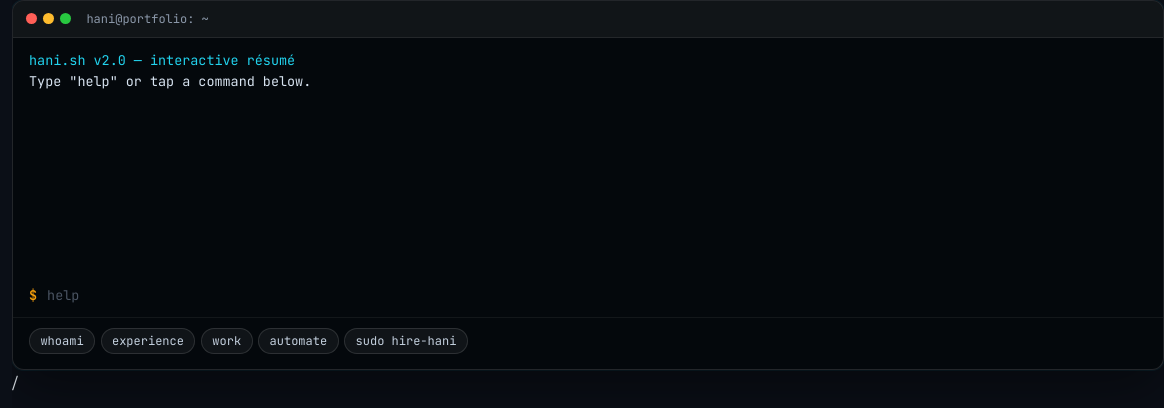
Test: running a command echoes it and prints output
Type "whoami" into the field named "terminal input" at [596, 295], box [45, 284, 1147, 306]
Then press Enter
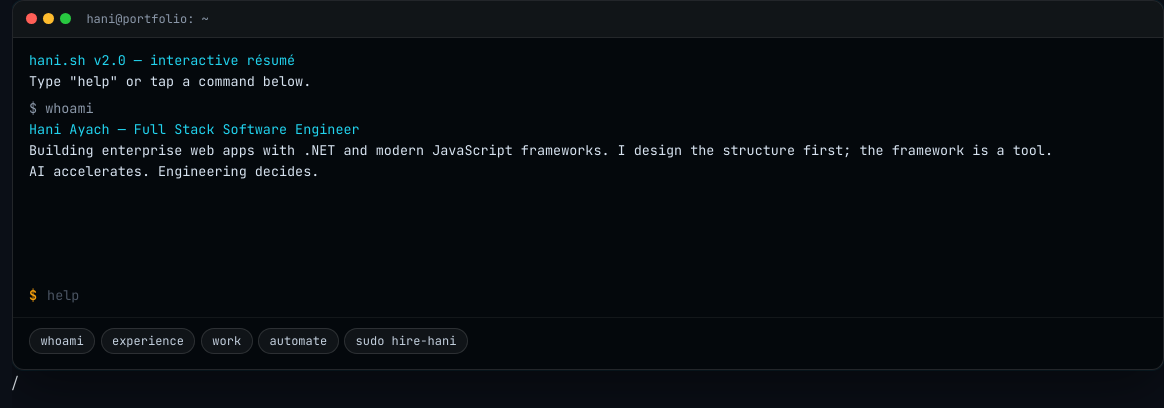
Check: the element named "Terminal output" shows "$ whoami", box [29, 99, 94, 117]
Check: the element named "Terminal output" shows "Full Stack Software Engineer", box [29, 120, 360, 138]
